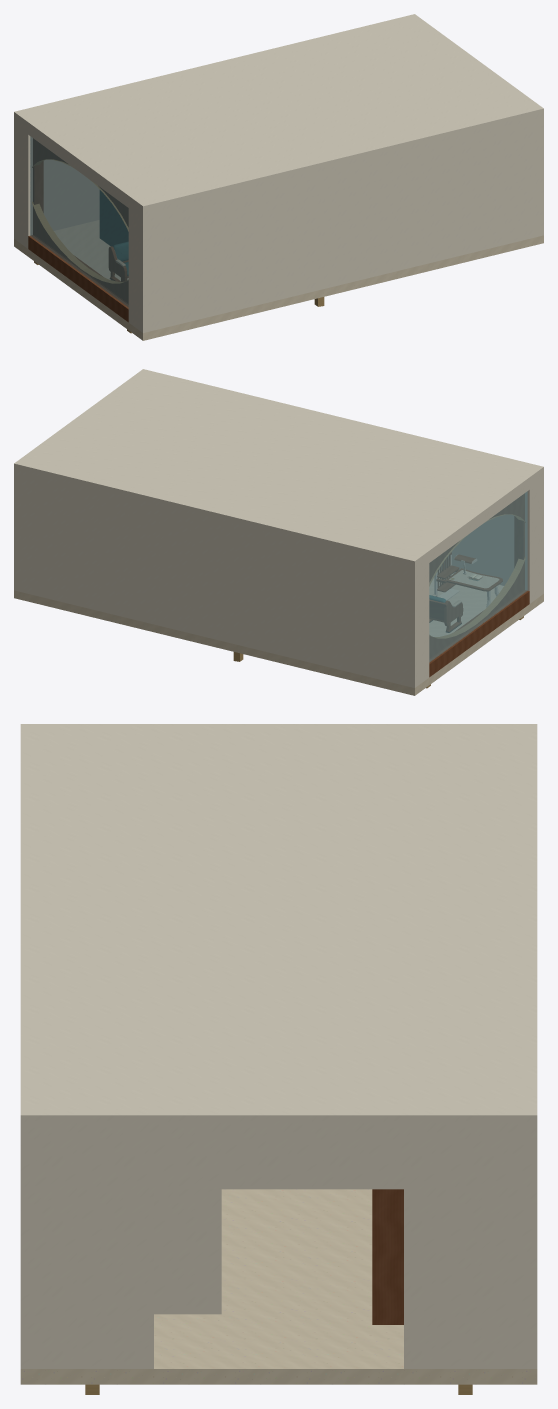
Rendered from QuietGroveBank_445_r001.glb.
The picture shows the model from 3 angles, top to bottom: view 1: azimuth 30°, elevation 25°; view 2: azimuth 150°, elevation 25°; view 3: azimuth 270°, elevation 25°; orthographic projection. The views are drawn at different scales.
Visible parts, largest first — view 1: QG445_Ceiling, QG445_SouthSide, QGB445_PrivateCourtGlass, QG445_RoomFloor, QG445_NorthSide, QGB445_CourtSouthPier, QGB445_CourtNorthPier, QGB445_CourtSill, QG445_OvalWindowReveal, QG445_Cocoon_RearLiner, QG445_OvalDepthReturn, QGB445_CourtHeader (+1 smaller); view 2: QG445_Ceiling, QG445_NorthSide, QGB445_PrivateCourtGlass, QG445_RoomFloor, QG445_SouthSide, QGB445_CourtNorthPier, QGB445_CourtSouthPier, QGB445_CourtSill, QG445_OvalWindowReveal, QG445_OvalDepthReturn, QGB445_CourtHeader, QGB445_DeepReveal_-317.8 (+1 smaller); view 3: QG445_Ceiling, QG445_RoomFloor, QG445_EntryShoulderSouth, QG445_EntryShoulderNorth, QG445_EntryHeader, QG445_WashEntrySide, QG445_EntryPrivacyDogleg, QG445_NorthSide, QG445_SouthSide.
Part boxes in pixels (<box>): QG445_Ceiling: <box>14,14,543,211</box>; QG445_SouthSide: <box>141,114,543,332</box>; QGB445_PrivateCourtGlass: <box>30,136,128,307</box>; QG445_RoomFloor: <box>14,220,543,340</box>; QG445_NorthSide: <box>14,117,99,239</box>; QGB445_CourtSouthPier: <box>128,201,150,332</box>; QGB445_CourtNorthPier: <box>14,118,32,248</box>; QGB445_CourtSill: <box>28,235,128,322</box>; QG445_OvalWindowReveal: <box>34,139,128,303</box>; QG445_Cocoon_RearLiner: <box>101,191,128,246</box>; QG445_OvalDepthReturn: <box>32,159,128,283</box>; QGB445_CourtHeader: <box>28,128,128,207</box>; QG445_Ceiling: <box>14,369,543,566</box>; QG445_NorthSide: <box>14,469,416,687</box>; QGB445_PrivateCourtGlass: <box>429,491,527,662</box>; QG445_RoomFloor: <box>14,570,543,695</box>; QG445_SouthSide: <box>439,472,543,594</box>; QGB445_CourtNorthPier: <box>407,556,429,687</box>; QGB445_CourtSouthPier: <box>525,474,541,603</box>; QGB445_CourtSill: <box>429,590,529,677</box>; QG445_OvalWindowReveal: <box>429,494,523,658</box>; QG445_OvalDepthReturn: <box>429,514,525,638</box>; QGB445_CourtHeader: <box>429,483,529,562</box>; QGB445_DeepReveal_-317.8: <box>514,493,524,589</box>; QG445_Ceiling: <box>20,724,537,1125</box>; QG445_RoomFloor: <box>20,1189,537,1384</box>; QG445_EntryShoulderSouth: <box>29,1125,153,1368</box>; QG445_EntryShoulderNorth: <box>404,1125,528,1368</box>; QG445_EntryHeader: <box>149,1125,407,1189</box>; QG445_WashEntrySide: <box>154,1189,221,1314</box>; QG445_EntryPrivacyDogleg: <box>372,1189,403,1324</box>; QG445_NorthSide: <box>528,1125,537,1368</box>; QG445_SouthSide: <box>20,1125,29,1368</box>.
Size of the model in its own units: 12.9 by 4.91 by 7.2.
58 materials, 43 textured.
